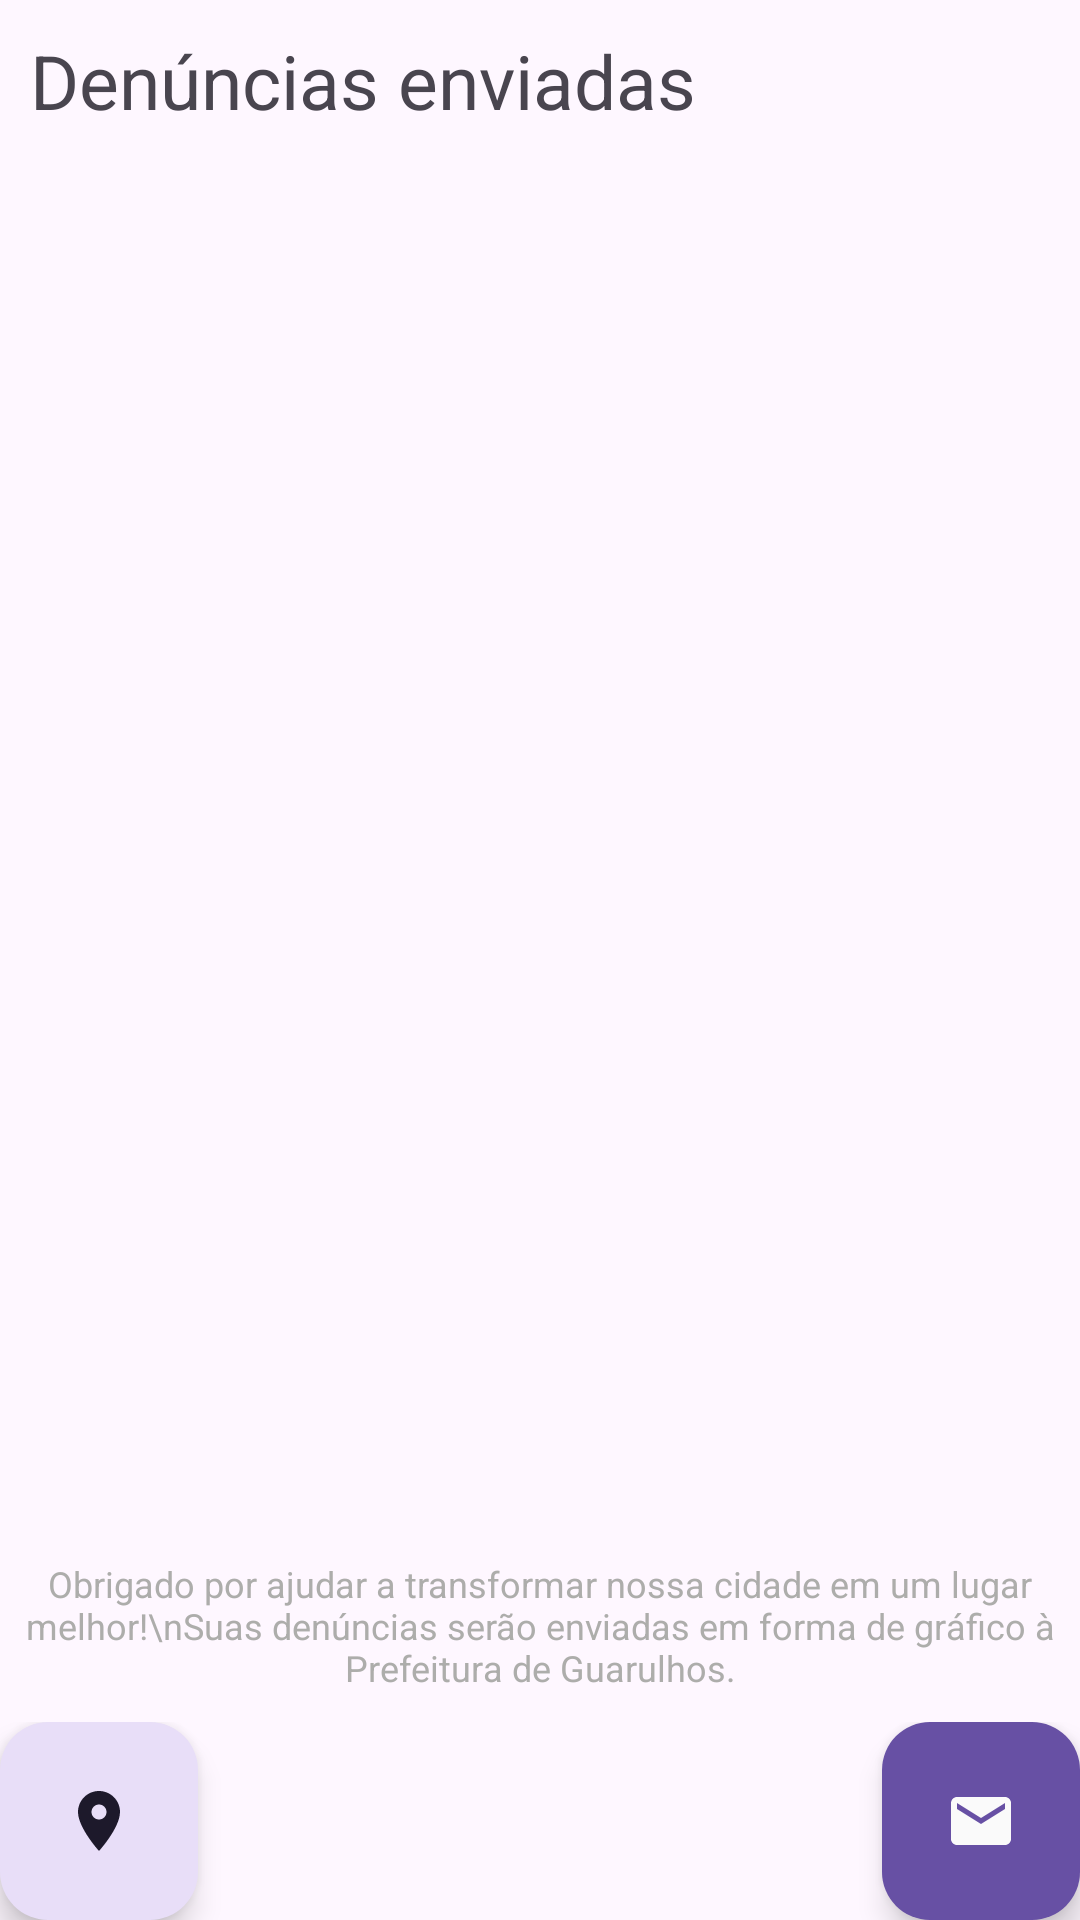

Screen size 1080 × 1920. Icon name, then its box in pixels as (x1, y1, x2, y2):
email: (882, 1722, 1080, 1920)
location on: (0, 1722, 198, 1920)
